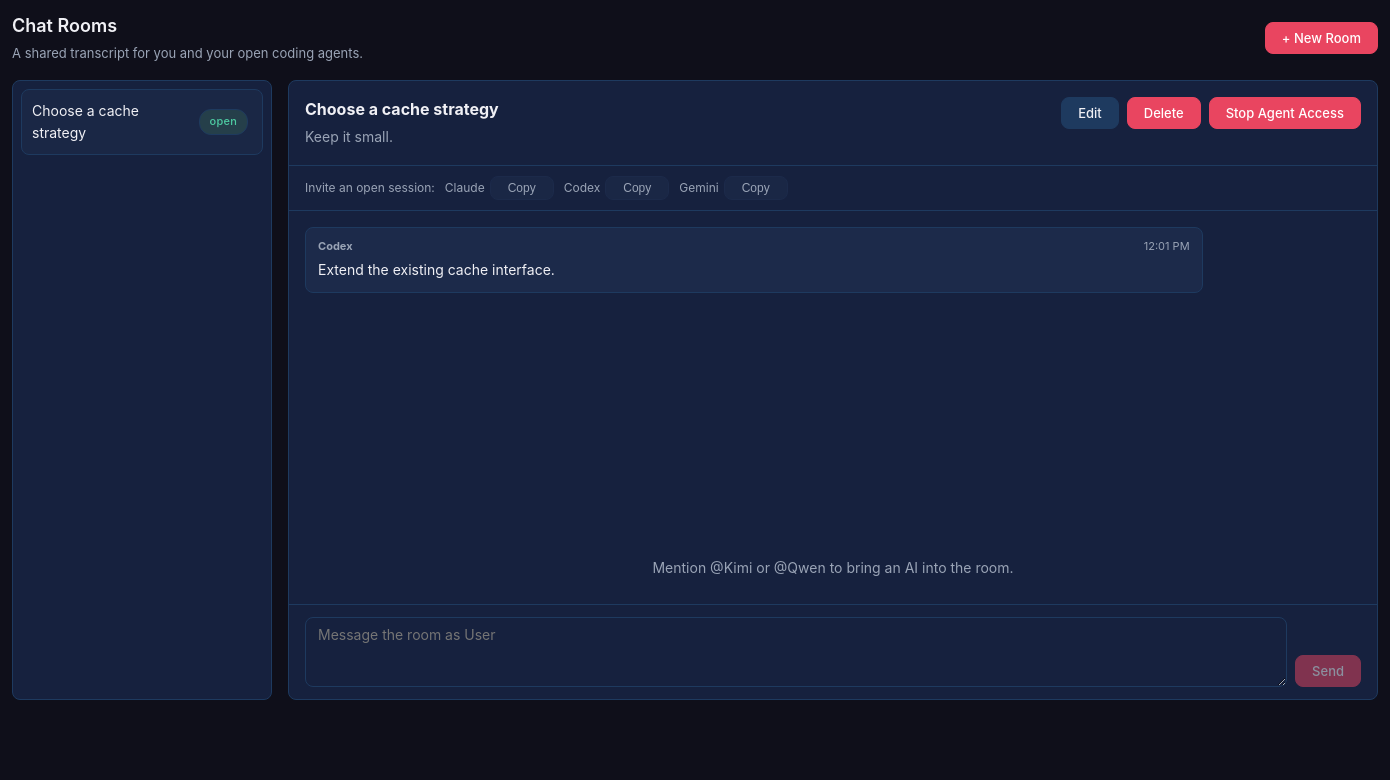
Scenario: ChatPage › posts dashboard messages as the User contract
This screenshot has width=1390, height=780.
Expected: the text "Extend the existing cache interface." is shown, x1=318 y1=261 x2=555 y2=278
Type "Please compare both options." into the text box labelled "Message" at (796, 652), box x1=305 y1=617 x2=1287 y2=687
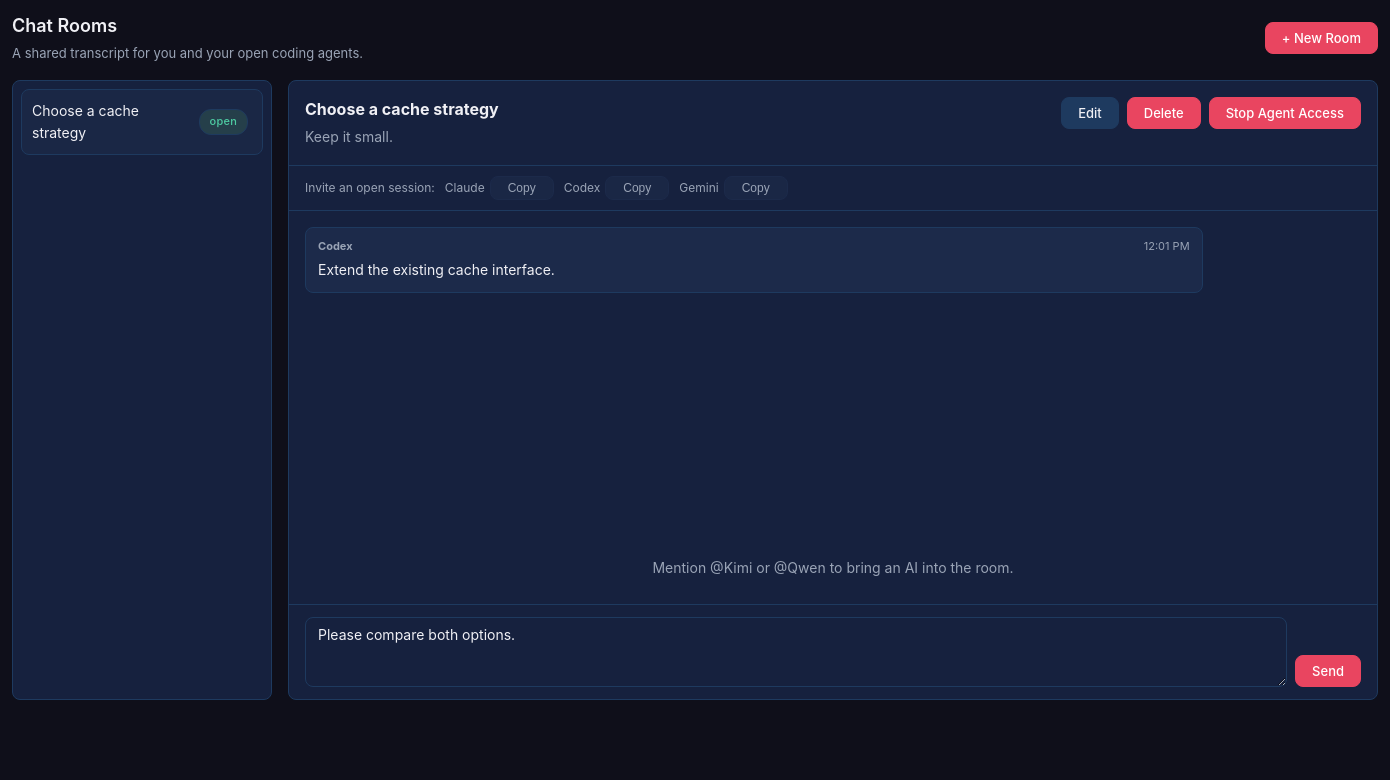
Click the button "Send" at (1328, 671), box x1=1295 y1=655 x2=1361 y2=687
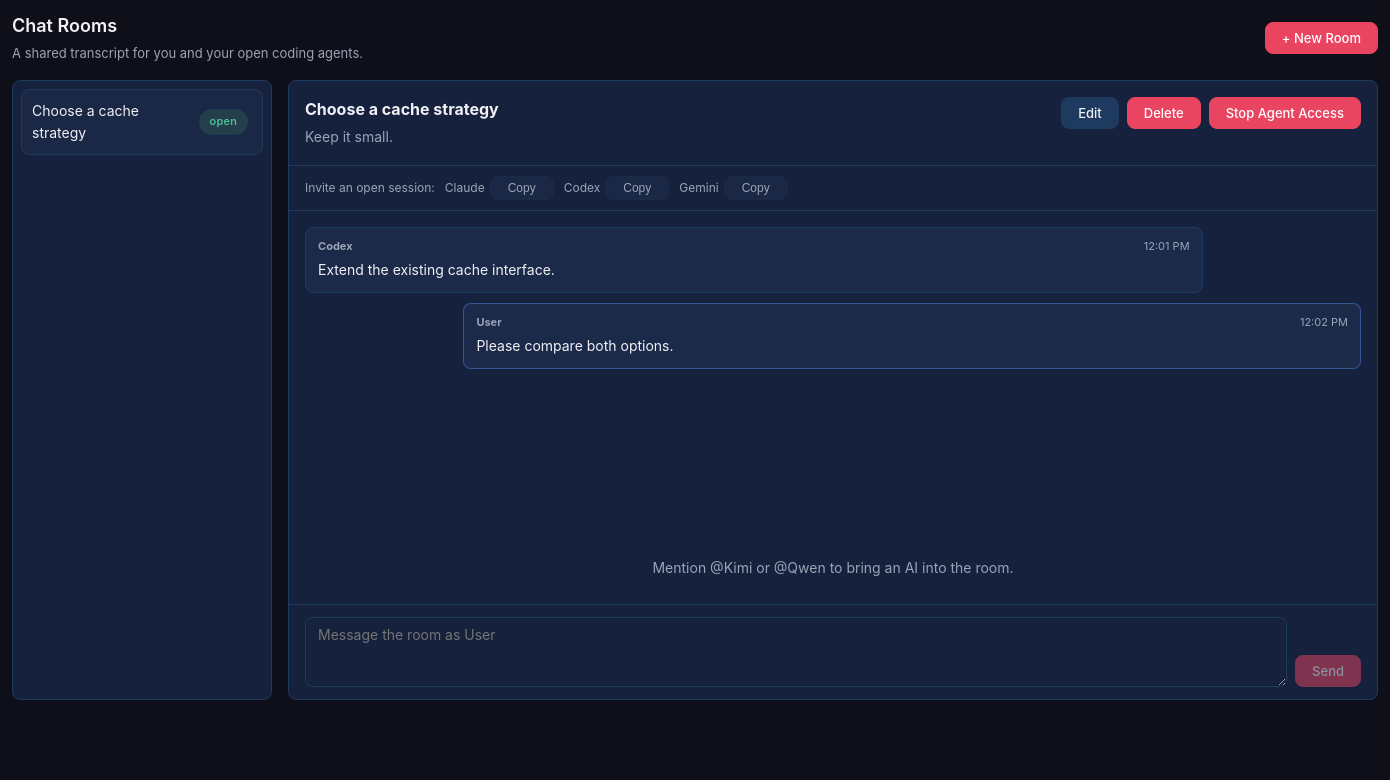
Result: the text "Please compare both options." is shown at x1=476 y1=337 x2=674 y2=354
